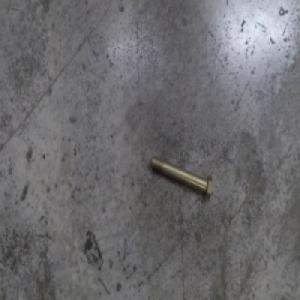Bolt: (149, 151, 214, 200)
